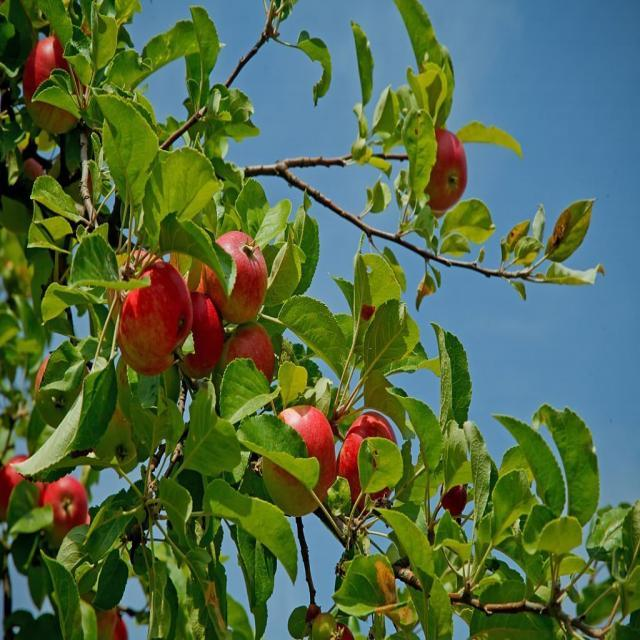Red Apple: (266, 404, 336, 503), (127, 266, 193, 356), (207, 229, 271, 319), (339, 413, 403, 501), (422, 130, 468, 206), (183, 291, 228, 368), (221, 322, 274, 383), (46, 477, 88, 534), (2, 457, 42, 514)
